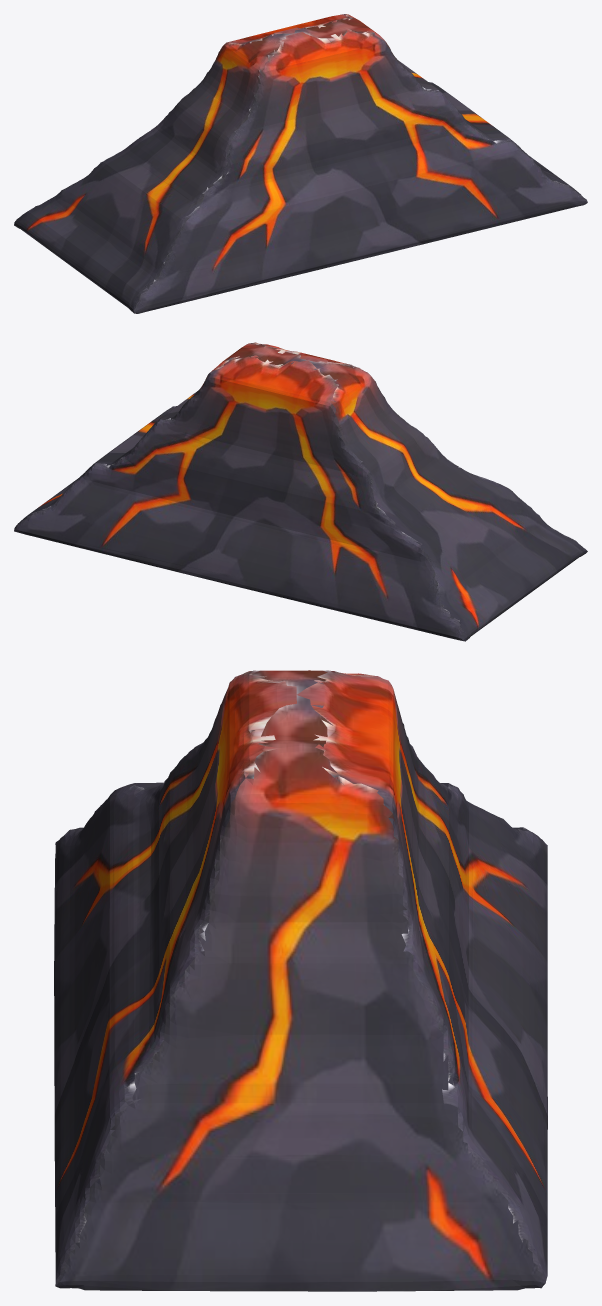
File: landmark_ash.glb
The picture shows the model from 3 angles, top to bottom: view 1: azimuth 30°, elevation 25°; view 2: azimuth 150°, elevation 25°; view 3: azimuth 270°, elevation 25°; orthographic projection. The views are drawn at different scales.
Parts seen in each view (by area): view 1: landmark_ash; view 2: landmark_ash; view 3: landmark_ash.
Part boxes in pixels (x1,y1,x2,y2): landmark_ash: [14, 14, 587, 313]; landmark_ash: [14, 342, 587, 641]; landmark_ash: [54, 670, 547, 1291].
Bounding box in the file's own units: 116 × 45.35 × 54.85.
Materials: 1 (1 with a texture image).
